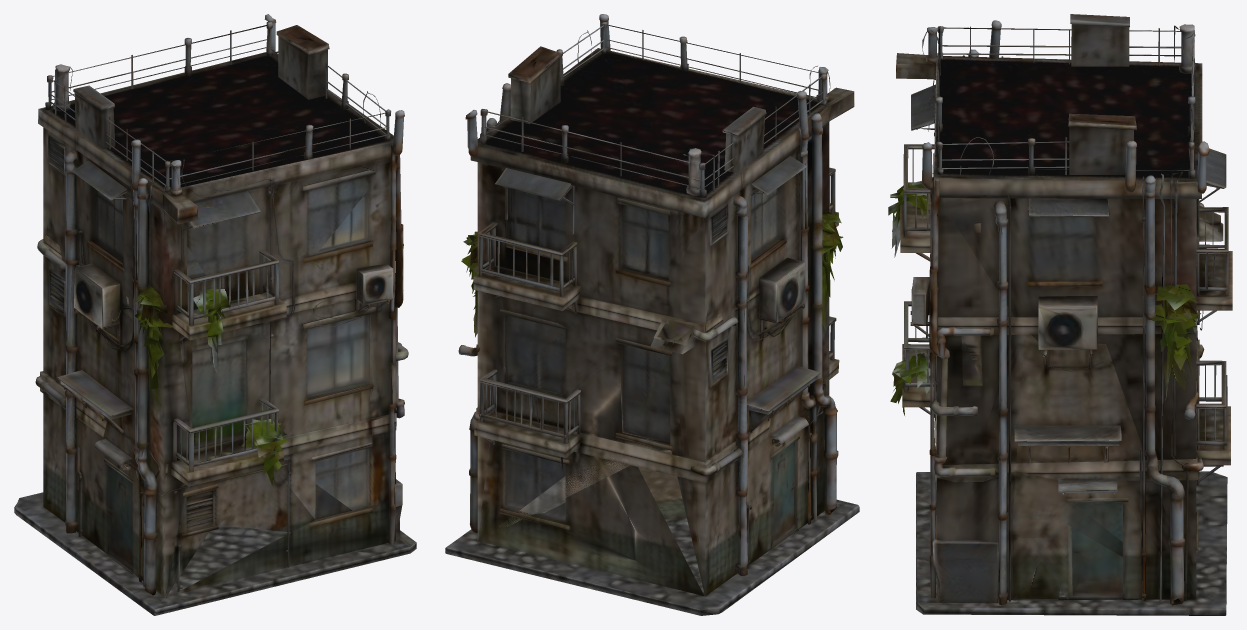
The model's file is facade.glb.
The picture shows the model from 3 angles, left to right: view 1: azimuth 30°, elevation 25°; view 2: azimuth 150°, elevation 25°; view 3: azimuth 270°, elevation 25°; orthographic projection. The views are drawn at different scales.
Visible parts, largest first — view 1: facade; view 2: facade; view 3: facade.
Boxes of the visible parts, x1,y1,x2,y2 form: facade: (14, 14, 416, 615); facade: (445, 14, 859, 615); facade: (888, 14, 1232, 615).
Size of the model in its own units: 7.66 by 12 by 7.75.
Materials: 1 (1 with a texture image).
